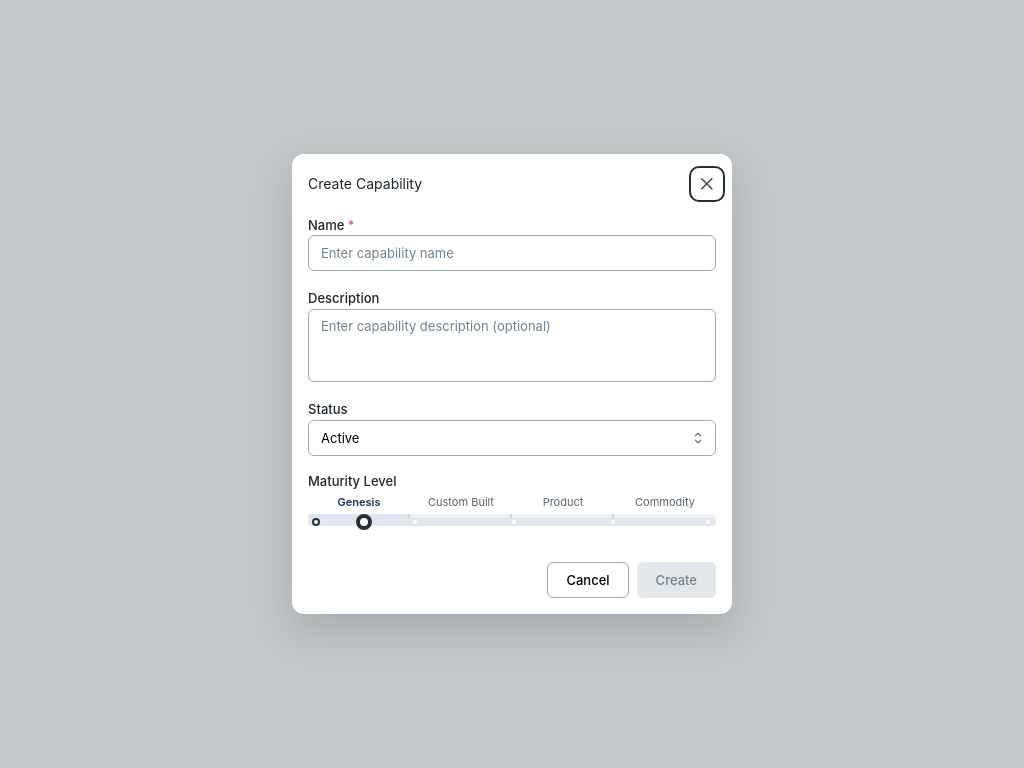
Test case: CreateCapabilityDialog › Error handling › shows rejects with a non-Error value as backend error
The image size is (1024, 768).
Check: the element with test id "maturity-slider" is shown, box top-left (308, 514), bottom-right (716, 530)
Type "Test Capability" into the field with test id "capability-name-input". click: coordinates (512, 253)
box: top-left (308, 235), bottom-right (716, 271)
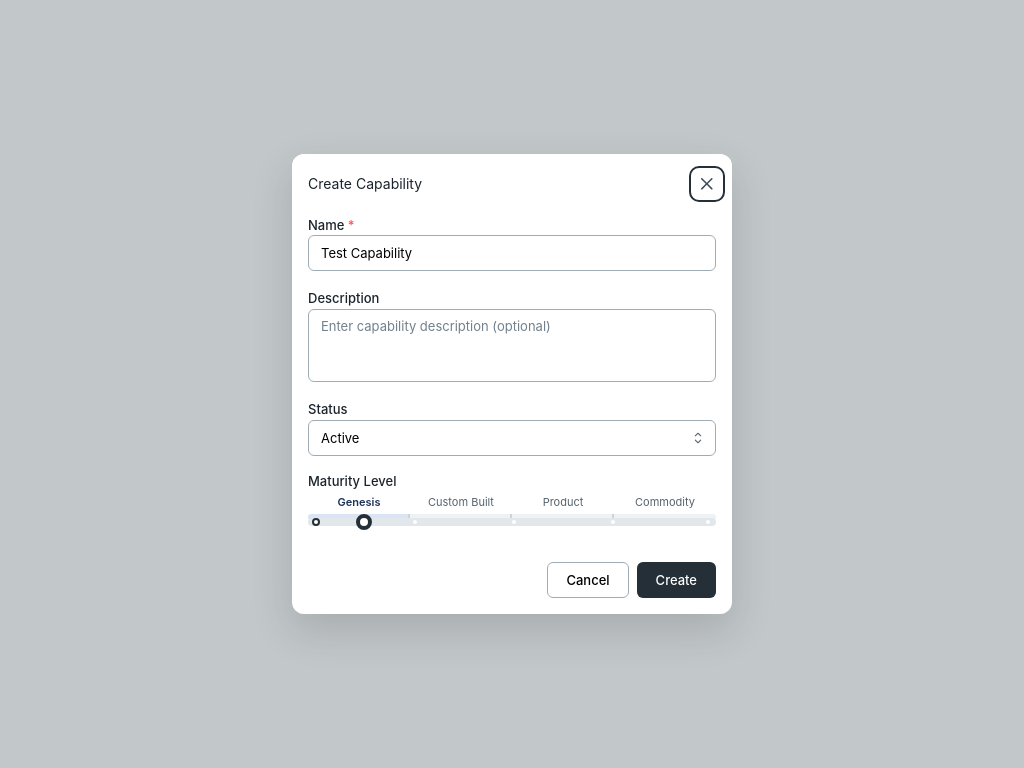
Check: the button with test id "create-capability-submit" is enabled
Click the button with test id "create-capability-submit". click: coordinates (676, 580)
box: top-left (637, 562), bottom-right (716, 598)
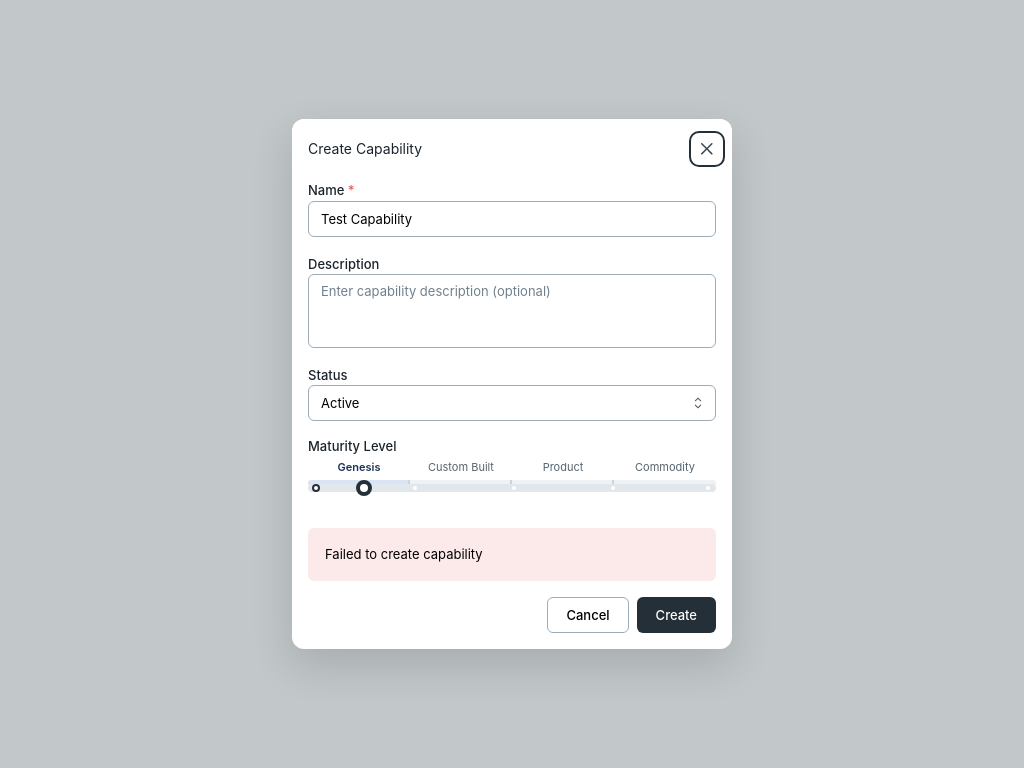
Check: the message with test id "create-capability-error" reads "Failed to create capability", box top-left (325, 546), bottom-right (483, 562)
